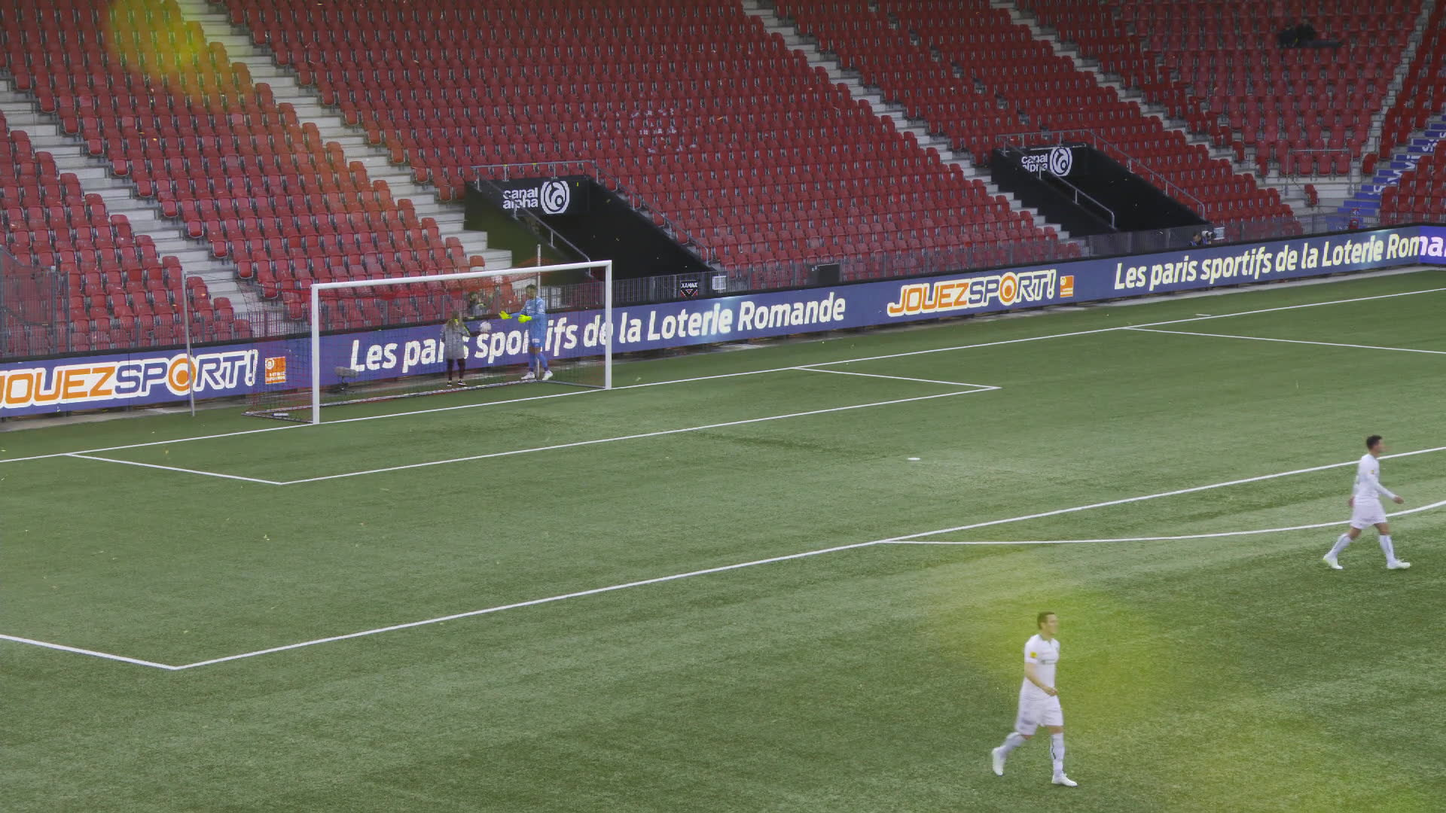ball: (481, 322, 490, 330), (494, 276, 503, 284)
player: (999, 611, 1075, 784), (1332, 433, 1406, 570), (501, 285, 548, 379)
